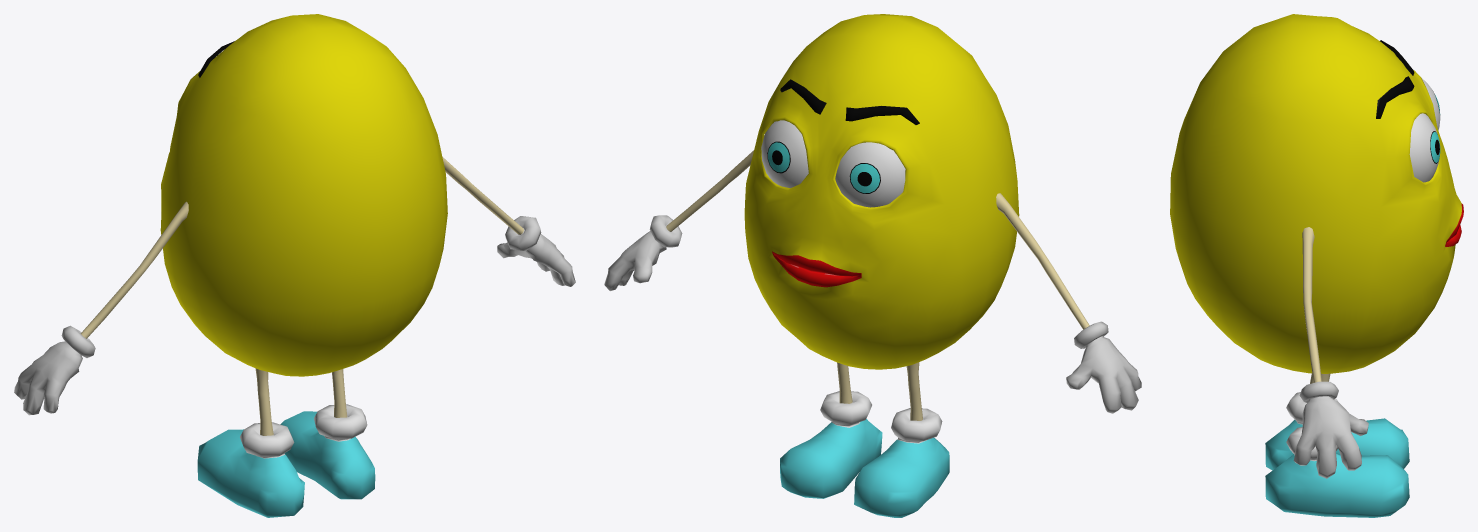
Rendered from egg.glb.
3 renders of one model, left to right at view 1: azimuth 30°, elevation 25°; view 2: azimuth 150°, elevation 25°; view 3: azimuth 270°, elevation 25°, orthographic. The views are drawn at different scales.
Visible parts, largest first — view 1: MrEgg_blender; view 2: MrEgg_blender; view 3: MrEgg_blender.
Boxes of the visible parts, x1=… form: MrEgg_blender: x1=14, y1=14, x2=575, y2=517; MrEgg_blender: x1=604, y1=14, x2=1141, y2=517; MrEgg_blender: x1=1170, y1=14, x2=1463, y2=517.
Size of the model in its own units: 5.7 by 4.72 by 2.7.
